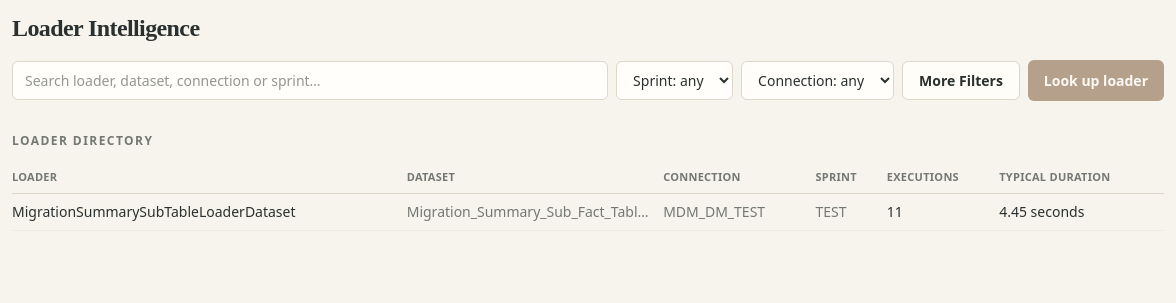
Loader Intelligence (simple panel, 2026-10-03 spec) › renders the directory WITHOUT the Intelligence column but keeps the filter
Check: the element with test id "loader-directory" shows "Typical duration", box [999,169,1111,184]
Check: the element with test id "loader-directory" does not show "Intelligence", box [12,161,1164,231]
# the intelligence FILTER stays available under More Filters
Click the button with test id "more-filters-toggle" at (961, 80), box [902,61,1020,100]
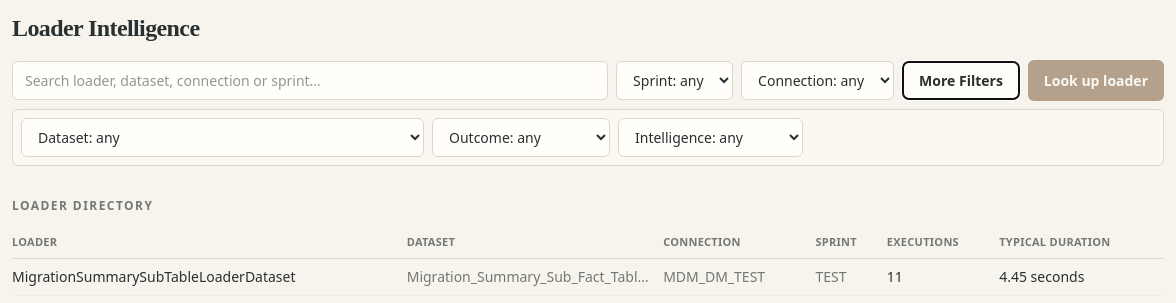
Check: the dropdown named "Intelligence filter" is shown, box [618,118,803,157]
